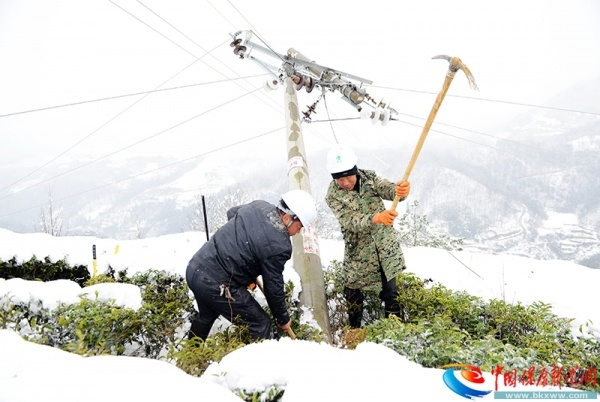white: (277, 190, 318, 235), (325, 144, 360, 190)
